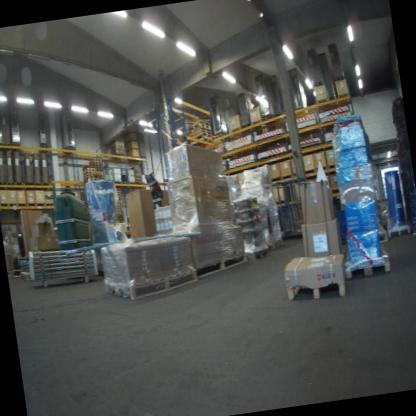pallet: (341, 244, 393, 281), (386, 218, 411, 238), (245, 245, 269, 262), (375, 220, 389, 243), (20, 269, 32, 282), (273, 238, 284, 248), (261, 114, 274, 121), (265, 240, 274, 250), (83, 166, 95, 173), (89, 162, 102, 168), (313, 80, 324, 87), (90, 156, 102, 162), (66, 145, 76, 152), (334, 74, 345, 80), (89, 160, 102, 165), (241, 122, 251, 128), (2, 141, 11, 147), (45, 201, 54, 207), (214, 132, 223, 138), (12, 141, 20, 147), (6, 180, 15, 185), (25, 181, 34, 186), (93, 165, 102, 170), (34, 181, 42, 186), (128, 180, 136, 185), (15, 180, 23, 185), (0, 180, 6, 185), (121, 180, 128, 184), (0, 141, 3, 145)
